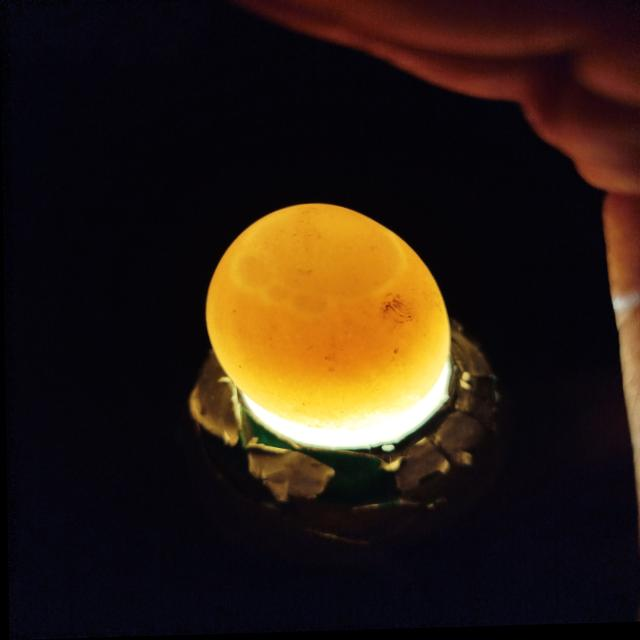Camara de Ar: (231, 205, 401, 319)
